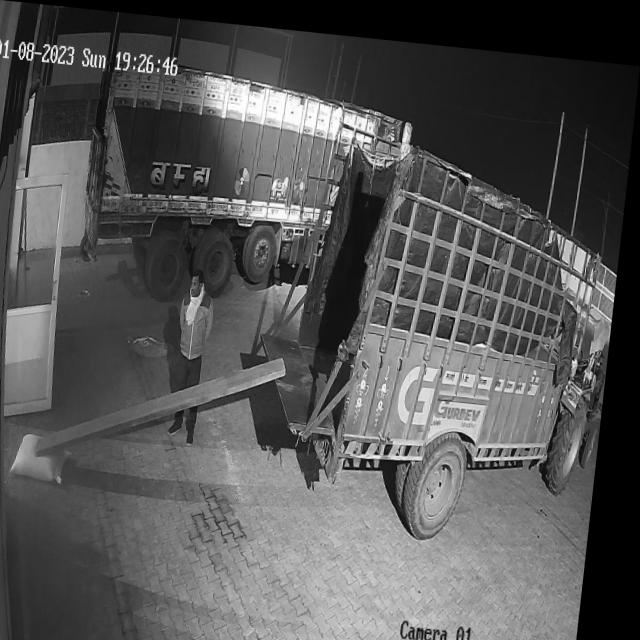sack: (21, 429, 81, 481)
